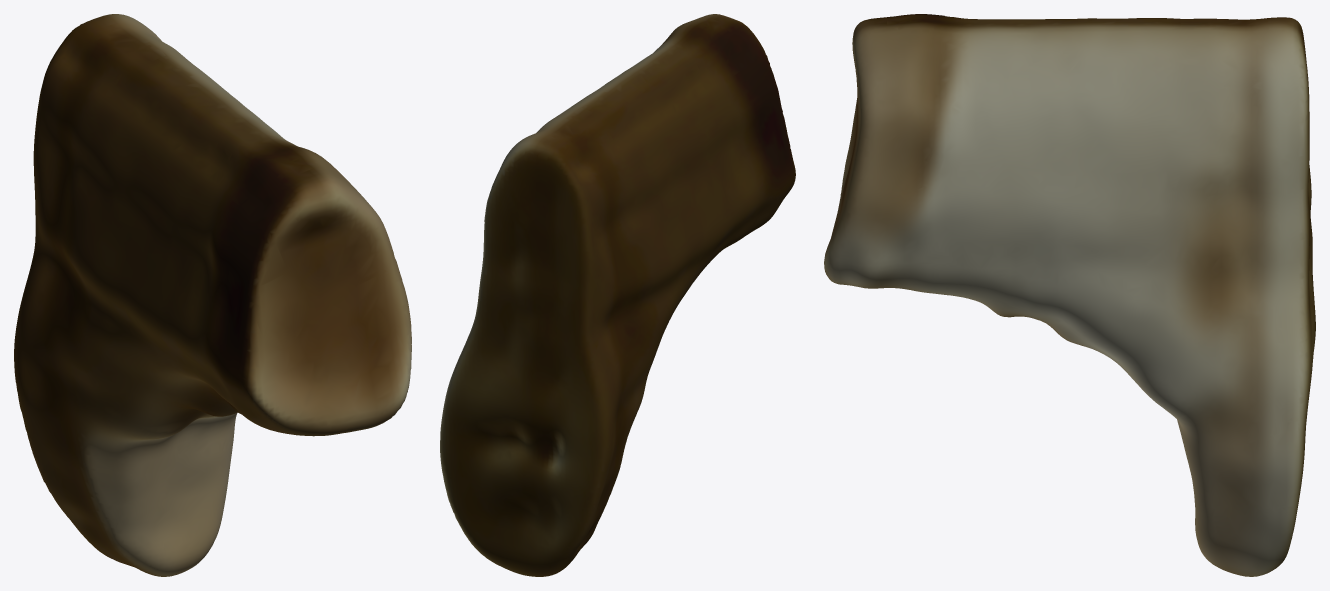
The model's file is shoe1.glb.
3 renders of one model, left to right at view 1: azimuth 30°, elevation 25°; view 2: azimuth 150°, elevation 25°; view 3: azimuth 270°, elevation 25°, orthographic. The views are drawn at different scales.
Size of the model in its own units: 0.3942 by 0.9996 by 0.8372.
